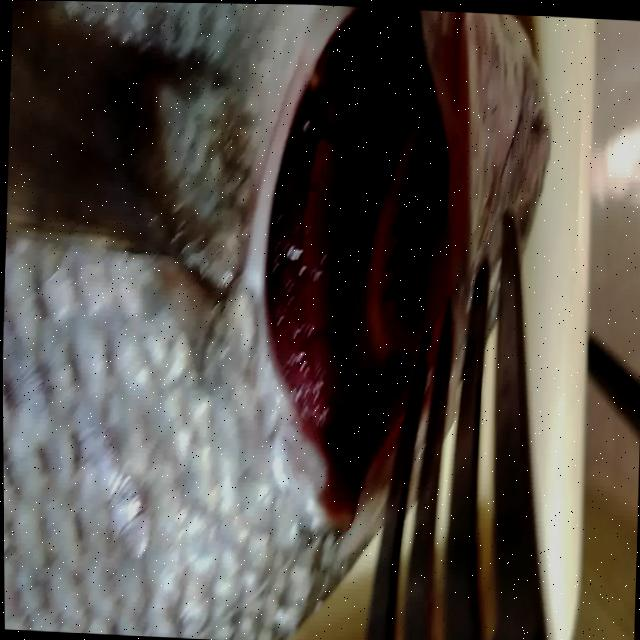Fresh: (251, 11, 465, 534)
